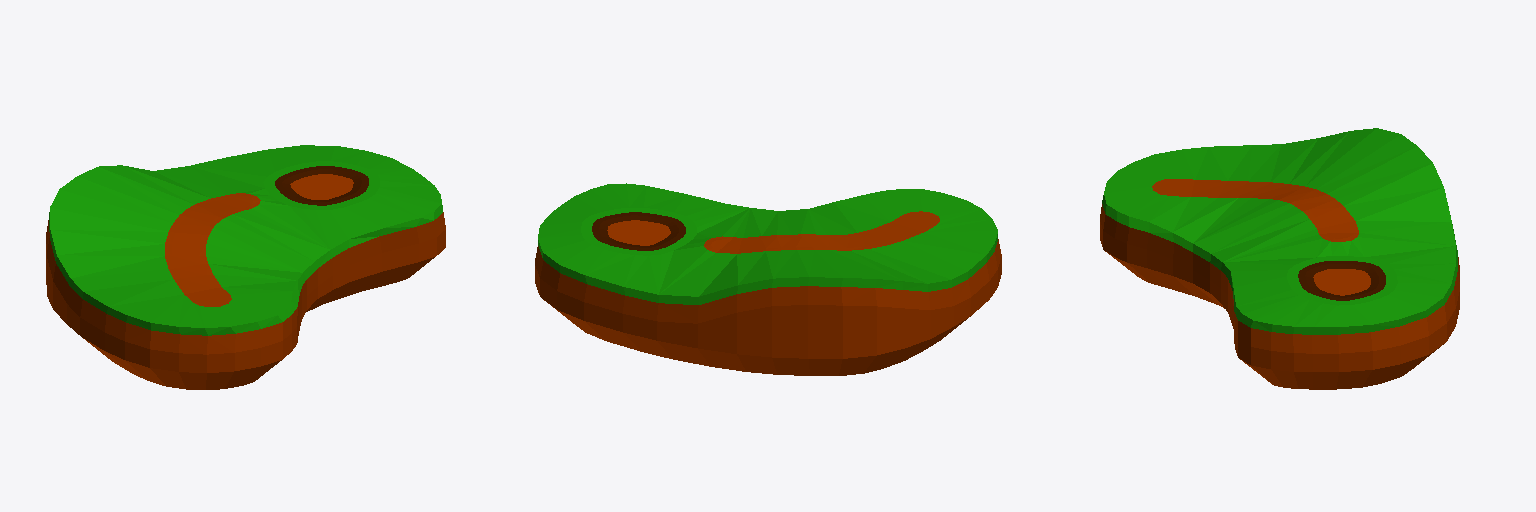
The model's file is YoshiHighlandBPlanet.obj.
3 renders of one model, left to right at view 1: azimuth 30°, elevation 25°; view 2: azimuth 150°, elevation 25°; view 3: azimuth 270°, elevation 25°, orthographic.
Parts seen in each view (by area): view 1: Plane.001_Plane.007, Plane.002_Plane.008, Plane; view 2: Plane.002_Plane.008, Plane.001_Plane.007, Plane; view 3: Plane.001_Plane.007, Plane.002_Plane.008, Plane.
Boxes of the visible parts, box(x1,y1,x2,y2) form: Plane.001_Plane.007: box(49, 145, 442, 335); Plane.002_Plane.008: box(46, 174, 445, 389); Plane: box(275, 166, 368, 205); Plane.002_Plane.008: box(535, 211, 1001, 375); Plane.001_Plane.007: box(538, 183, 997, 304); Plane: box(592, 212, 685, 250); Plane.001_Plane.007: box(1102, 128, 1457, 334); Plane.002_Plane.008: box(1100, 179, 1459, 389); Plane: box(1298, 261, 1385, 300).
Size of the model in its own units: 2277 by 646 by 1876.